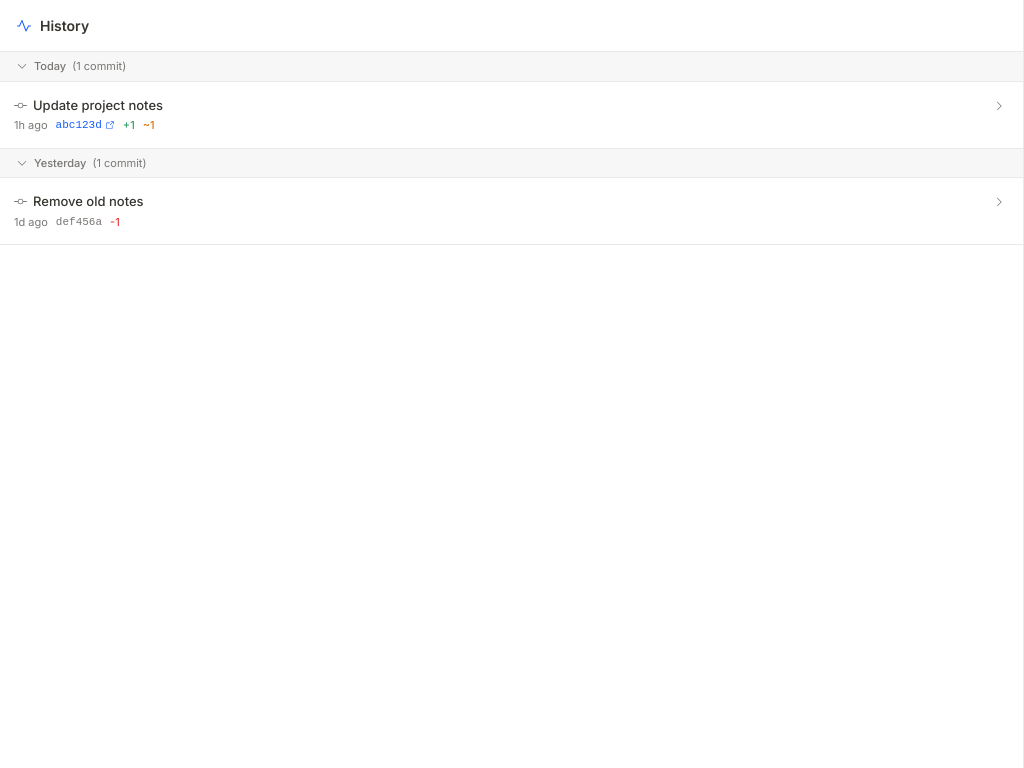
PulseView › toggles file list visibility when clicking anywhere on the commit row
Expected: the 1st button named "Expand files" is shown, [989,96,1009,116]
Expected: the text "my project" is not shown
Click the text "Update project notes" at (98, 105), box [33,96,163,115]
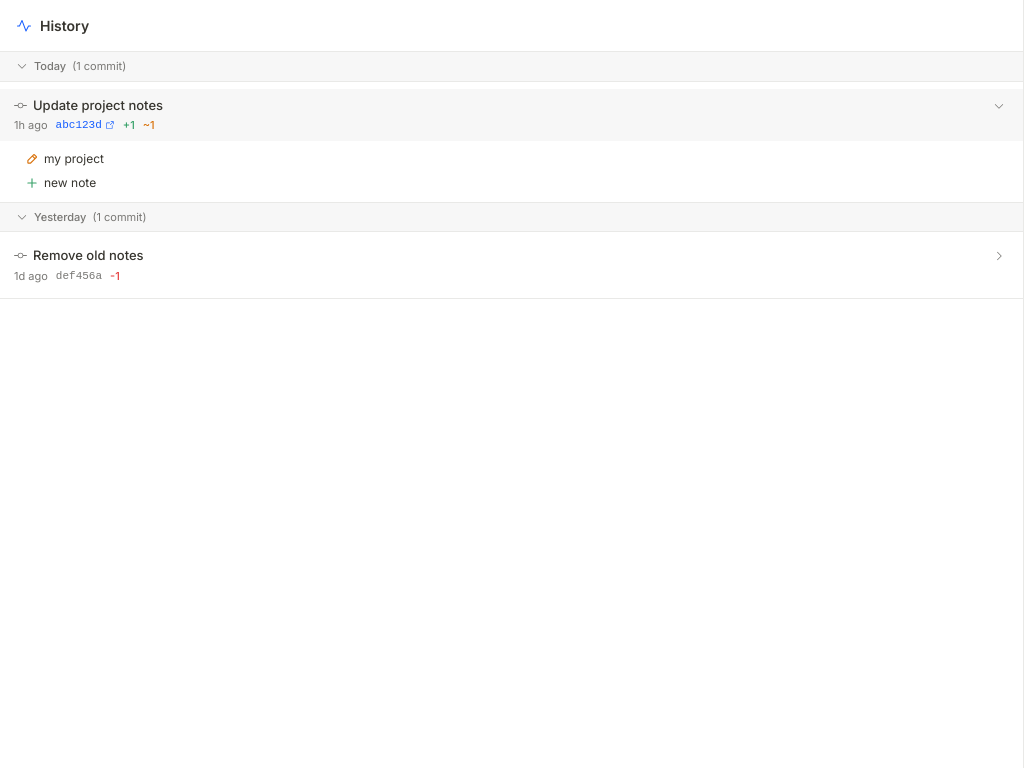
Expected: the text "my project" is shown, [44,150,104,168]
Click the text "Update project notes" at (98, 105), box [33,96,163,115]
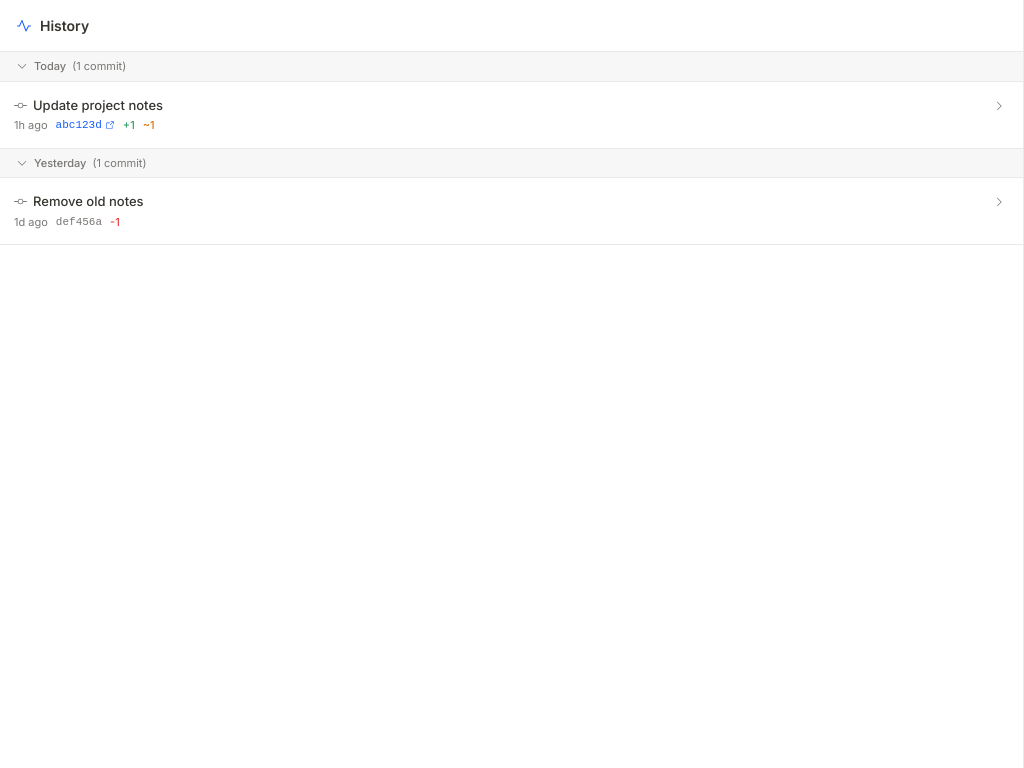
Expected: the button "my project" is gone
